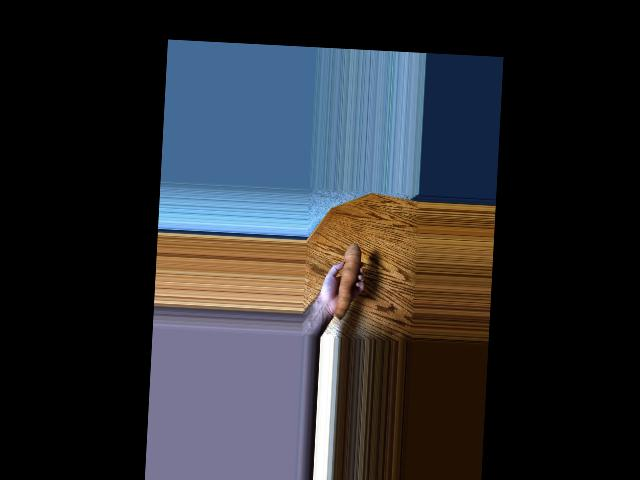sweet_potato: (333, 242, 367, 316)
